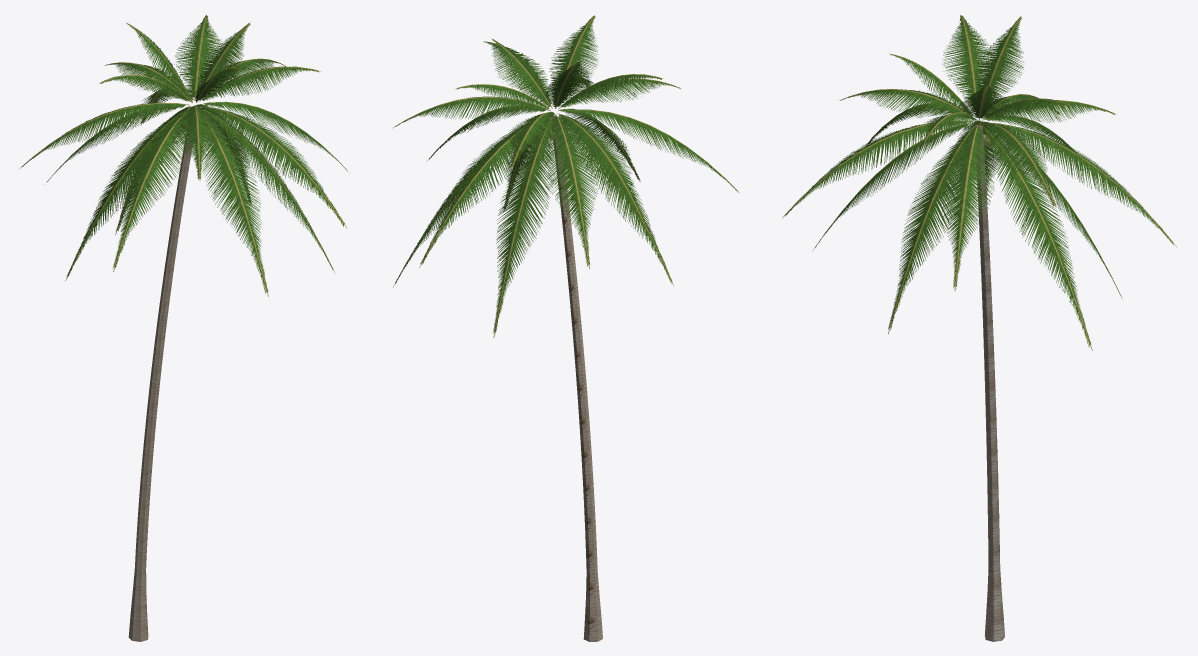
The model's file is palm_b.glb.
The picture shows the model from 3 angles, left to right: view 1: azimuth 30°, elevation 25°; view 2: azimuth 150°, elevation 25°; view 3: azimuth 270°, elevation 25°; orthographic projection. The views are drawn at different scales.
Visible parts, largest first — view 1: palm_b; view 2: palm_b; view 3: palm_b.
Boxes of the visible parts, <box> form: palm_b: <box>19,15,347,641</box>; palm_b: <box>392,15,739,641</box>; palm_b: <box>782,15,1176,641</box>.
Size of the model in its own units: 8.28 by 16.31 by 9.74.
3 materials, 2 textured.
